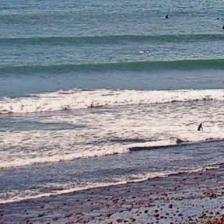surfer: (198, 123, 202, 131), (215, 17, 220, 19), (165, 15, 168, 18), (222, 25, 224, 29)
